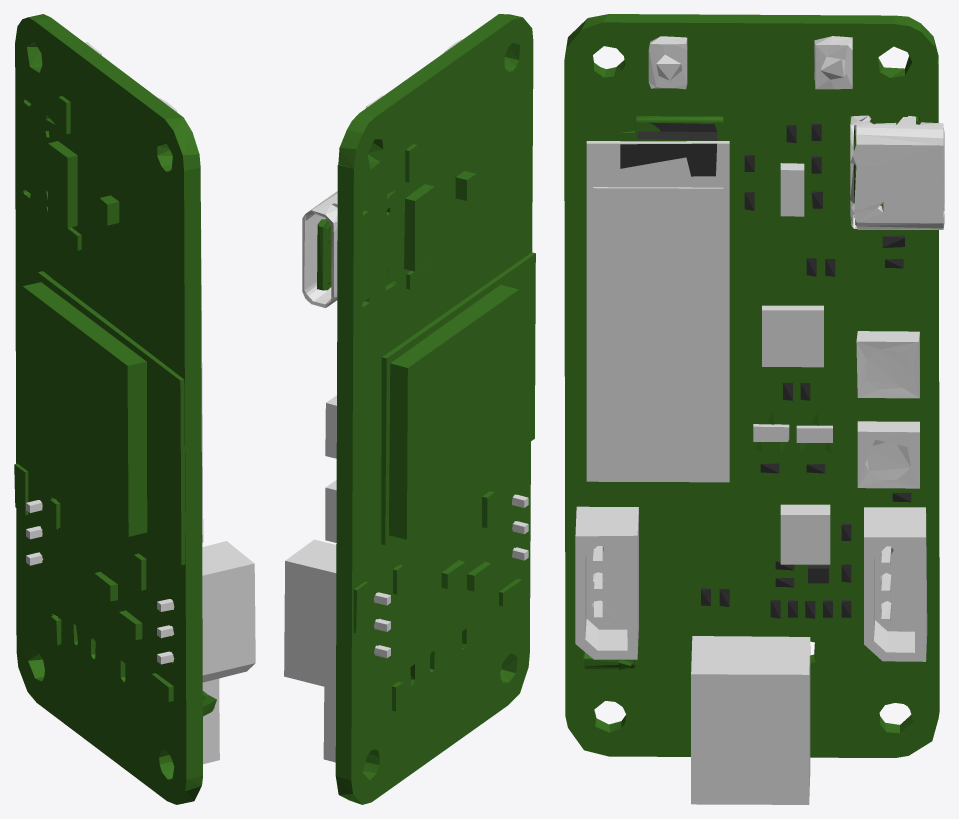
Rendered from WS-ESP32-Servo-Driver-Board.dae.
3 renders of one model, left to right at view 1: azimuth 30°, elevation 25°; view 2: azimuth 150°, elevation 25°; view 3: azimuth 270°, elevation 25°, orthographic. The views are drawn at different scales.
Visible parts, largest first — view 1: WS_Servo_Driver_with_ESP32_v4 - reduced; view 2: WS_Servo_Driver_with_ESP32_v4 - reduced; view 3: WS_Servo_Driver_with_ESP32_v4 - reduced.
Part boxes in pixels (<box>): WS_Servo_Driver_with_ESP32_v4 - reduced: <box>14,14,255,804</box>; WS_Servo_Driver_with_ESP32_v4 - reduced: <box>284,14,535,804</box>; WS_Servo_Driver_with_ESP32_v4 - reduced: <box>564,14,944,804</box>.
Size of the model in its own units: 0.0116 by 0.0306 by 0.0659.
